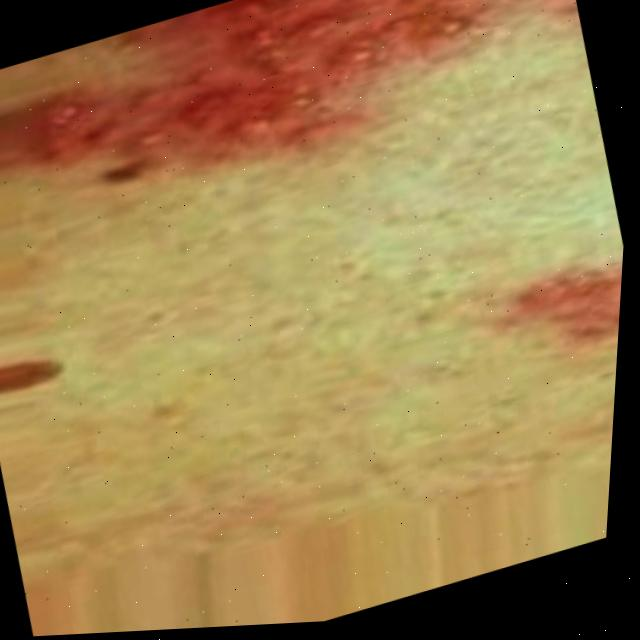Shingles: (19, 0, 594, 225), (512, 235, 624, 363)
